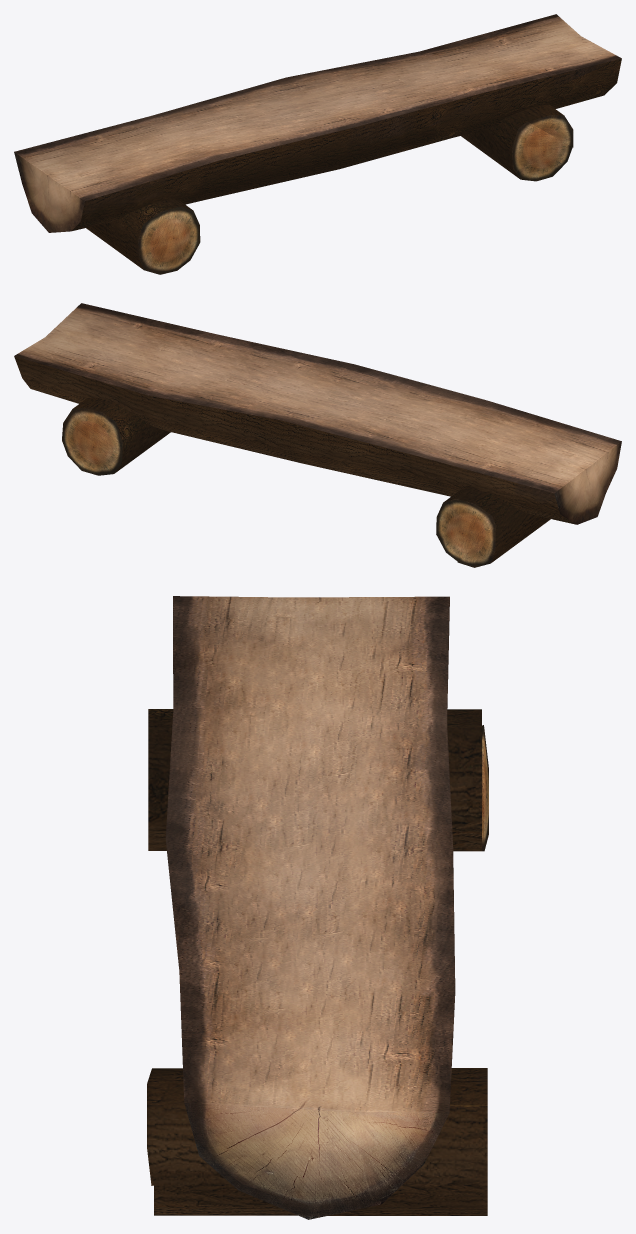
Rendered from log_bench.glb.
3 views of the same model, one above another, from view 1: azimuth 30°, elevation 25°; view 2: azimuth 150°, elevation 25°; view 3: azimuth 270°, elevation 25° (orthographic). The views are drawn at different scales.
Parts seen in each view (by area): view 1: Bench01; view 2: Bench01; view 3: Bench01.
Boxes of the visible parts, x1,y1,x2,y2 form: Bench01: (14,14,621,274); Bench01: (14,303,621,567); Bench01: (147,596,488,1219).
Size of the model in its own units: 261 by 43.69 by 70.89.
1 material, 1 textured.
